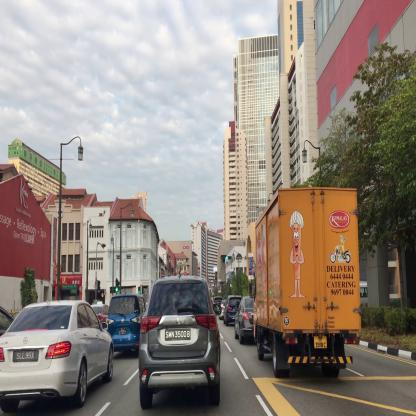green_traffic_light: (116, 279, 118, 292), (226, 256, 231, 259)
